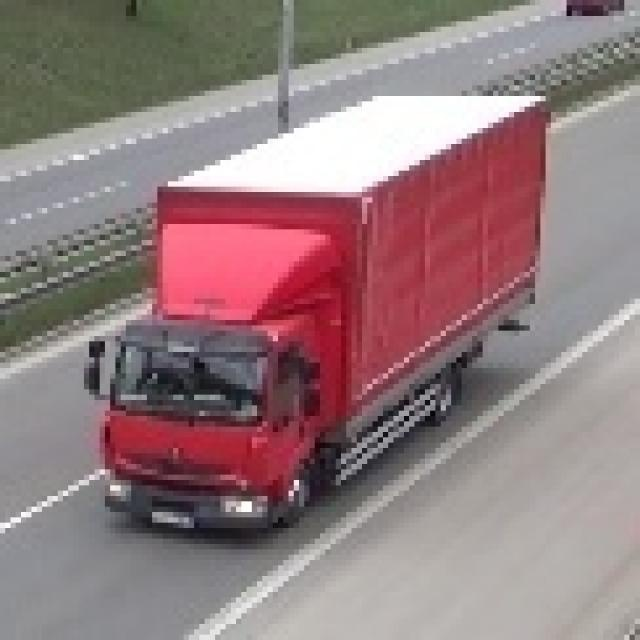Truck: (78, 80, 546, 534)
